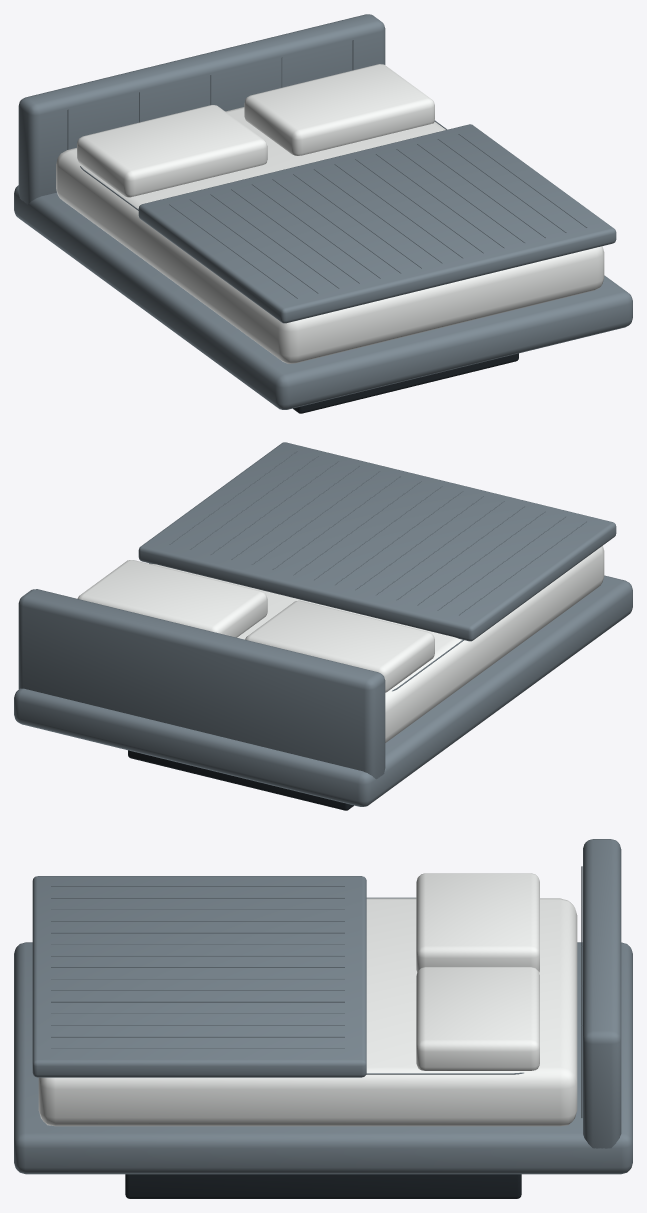
File: queen-bed.glb
3 views of the same model, one above another, from view 1: azimuth 30°, elevation 25°; view 2: azimuth 150°, elevation 25°; view 3: azimuth 270°, elevation 25° (orthographic). The views are drawn at different scales.
Visible parts, largest first — view 1: queen-bed; view 2: queen-bed; view 3: queen-bed.
Part boxes in pixels (<box>): queen-bed: <box>14,14,632,413</box>; queen-bed: <box>14,442,632,810</box>; queen-bed: <box>14,839,632,1198</box>.
Bounding box in the file's own units: 1.6 × 0.76 × 2.1.
